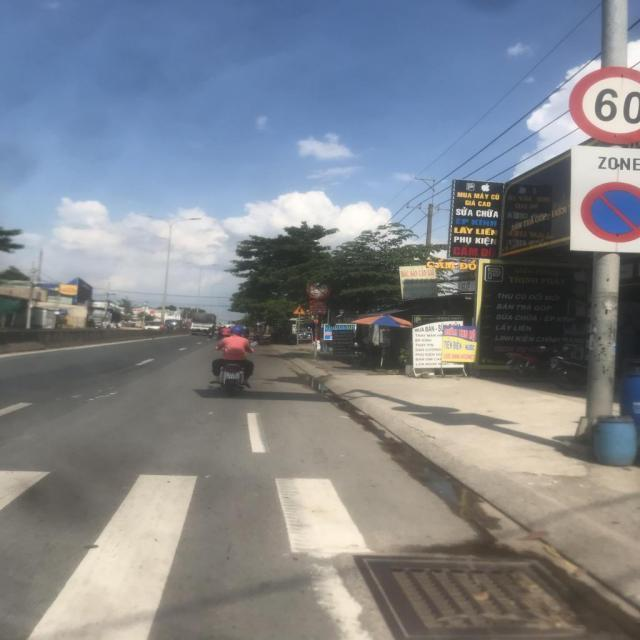127-toc-do-toi-da-60: (568, 64, 640, 144)
131a-cam-do-xe: (579, 180, 640, 244)
